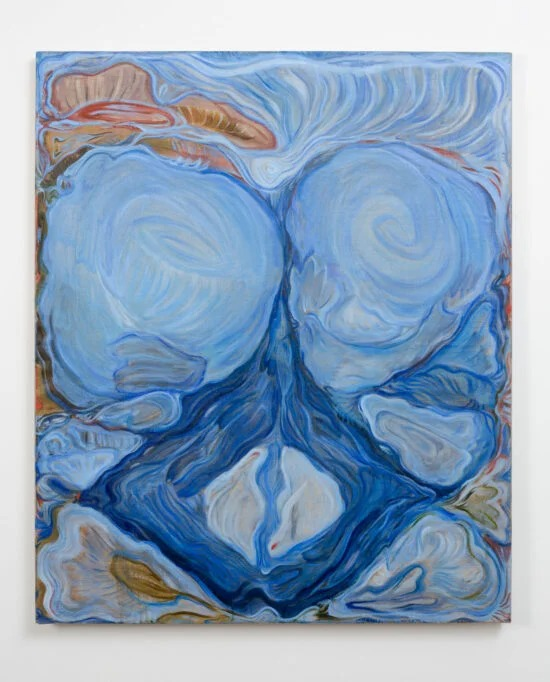painting: (32, 51, 513, 626)
